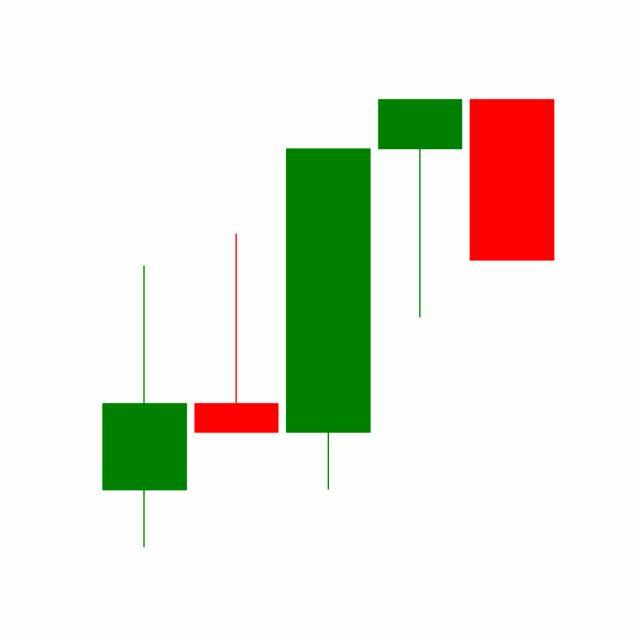Hanging Man: (374, 97, 468, 320)
